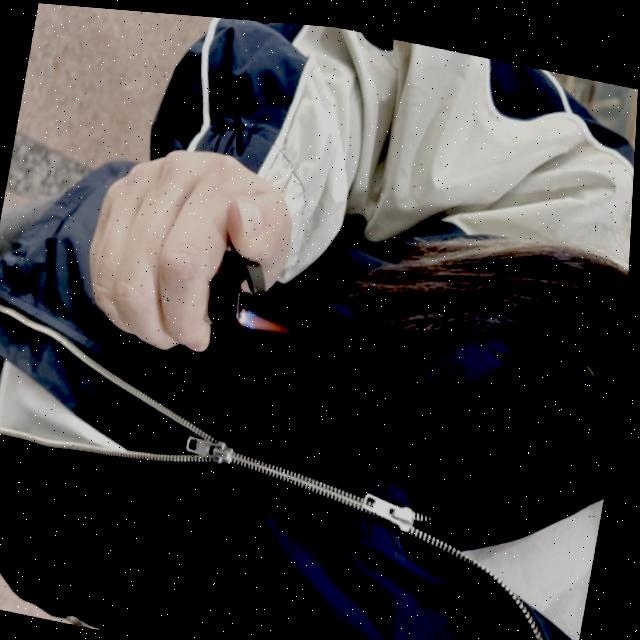Fire: (240, 303, 309, 336)
